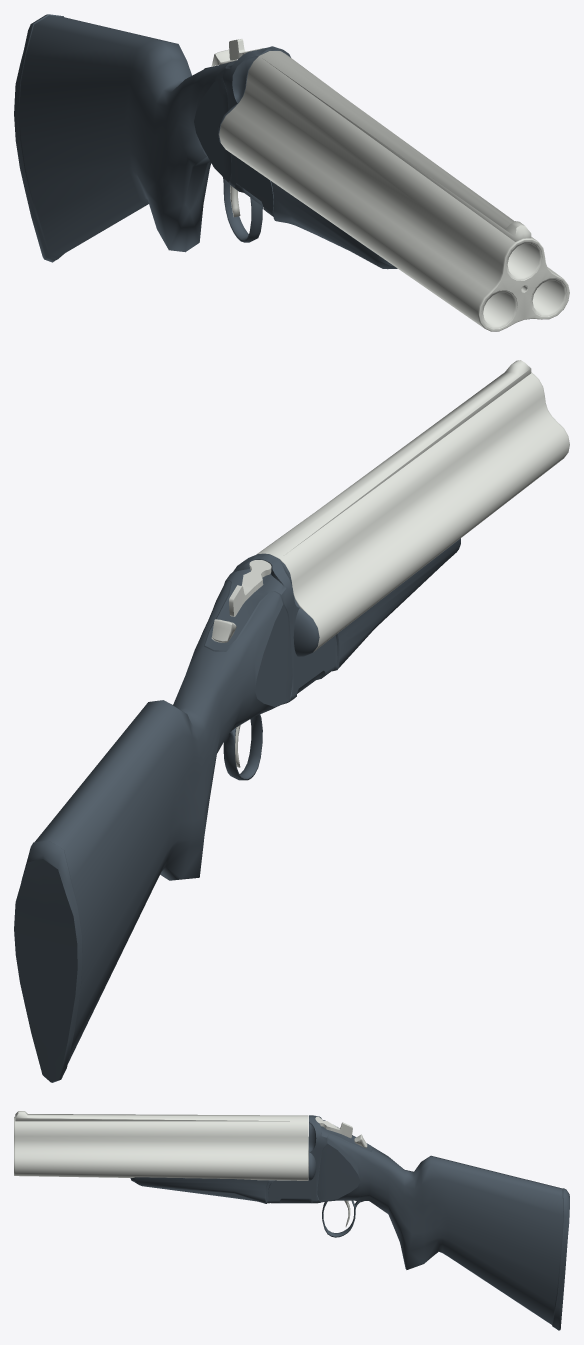
The model's file is Flintlock.fbx.
3 views of the same model, one above another, from view 1: azimuth 30°, elevation 25°; view 2: azimuth 150°, elevation 25°; view 3: azimuth 270°, elevation 25° (orthographic). The views are drawn at different scales.
Parts seen in each view (by area): view 1: Flintlock; view 2: Flintlock; view 3: Flintlock.
Boxes of the visible parts, bbox=[...] form: Flintlock: bbox=[14, 14, 569, 331]; Flintlock: bbox=[14, 360, 569, 1082]; Flintlock: bbox=[14, 1111, 569, 1330].
Bounding box in the file's own units: 28.8 × 104 × 238.
